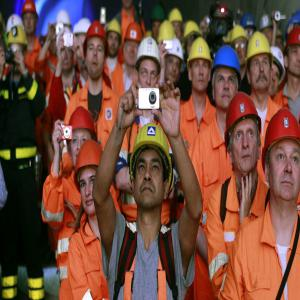blue: (212, 45, 242, 112)
red: (264, 108, 300, 205), (227, 93, 261, 176), (78, 141, 106, 216), (69, 107, 97, 165), (85, 22, 108, 79), (124, 23, 143, 67), (22, 2, 39, 37)
white: (138, 38, 163, 93), (165, 42, 184, 86), (270, 46, 286, 96)
yellow: (130, 121, 173, 215), (247, 33, 273, 93), (189, 39, 212, 93), (9, 28, 28, 69), (232, 25, 248, 64), (108, 20, 122, 58), (170, 9, 184, 40)
